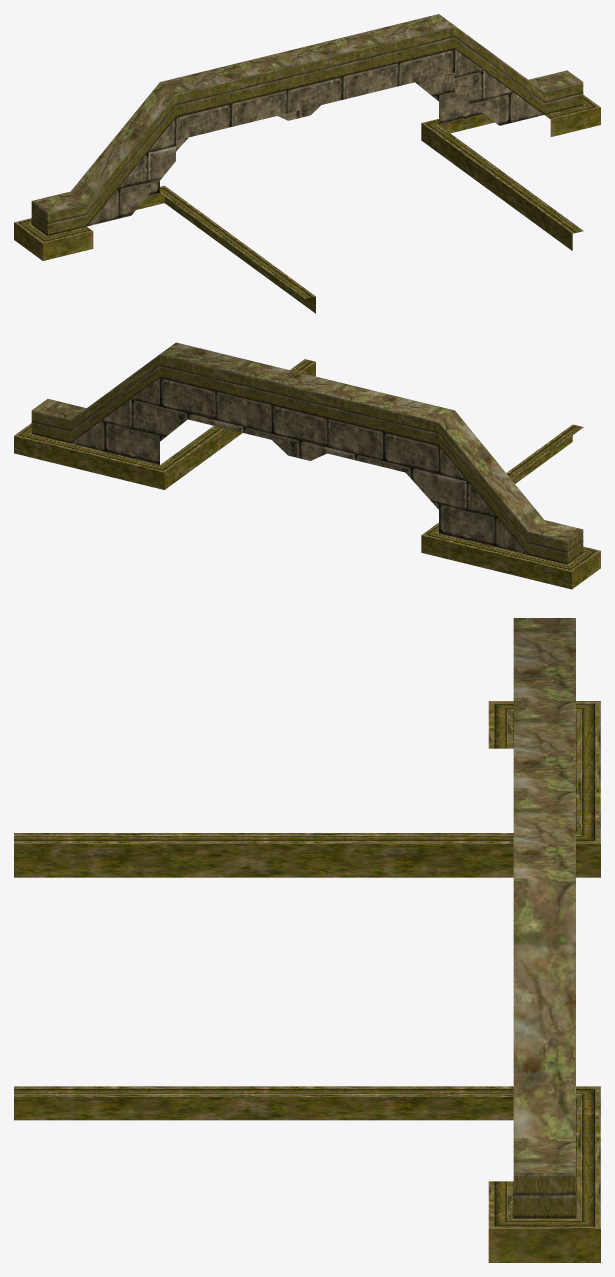
Rendered from OVERHILL_A_01_OBJECT171.fbx.
The picture shows the model from 3 angles, top to bottom: view 1: azimuth 30°, elevation 25°; view 2: azimuth 150°, elevation 25°; view 3: azimuth 270°, elevation 25°; orthographic projection. The views are drawn at different scales.
Parts seen in each view (by area): view 1: OVERHILL_A_01_OBJECT171; view 2: OVERHILL_A_01_OBJECT171; view 3: OVERHILL_A_01_OBJECT171.
Boxes of the visible parts, x1,y1,x2,y2 form: OVERHILL_A_01_OBJECT171: (14,14,600,313); OVERHILL_A_01_OBJECT171: (14,342,600,589); OVERHILL_A_01_OBJECT171: (14,618,600,1262).
Size of the model in its own units: 100000 by 22000 by 47000.
5 materials, 5 textured.
